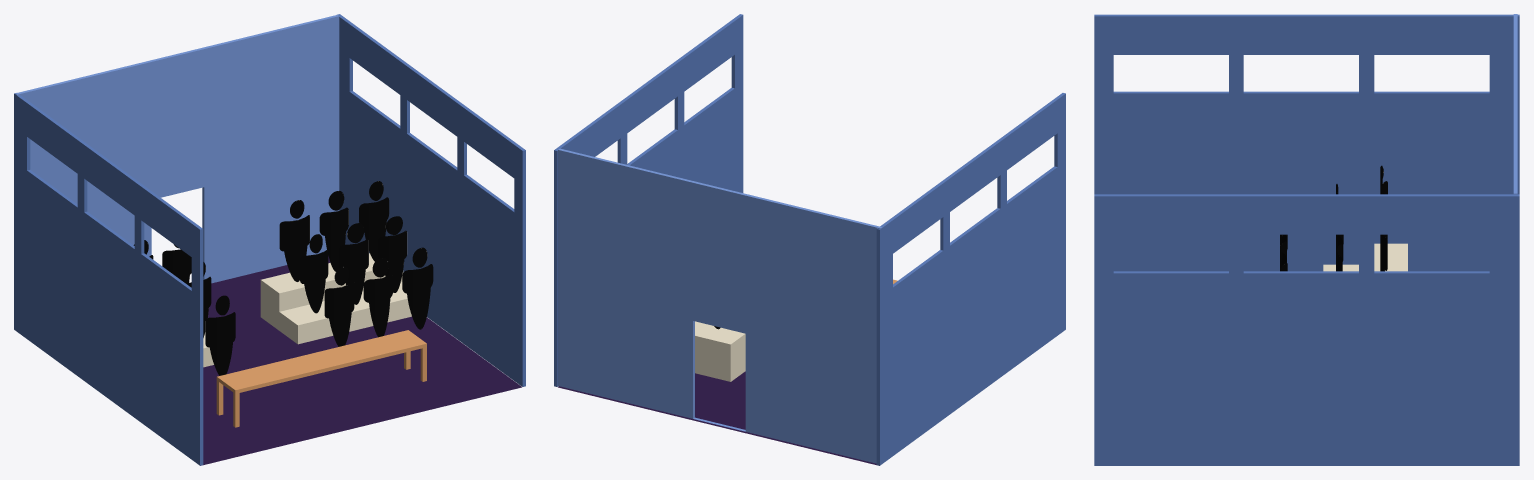
Rendered from meeting.fbx.
3 renders of one model, left to right at view 1: azimuth 30°, elevation 25°; view 2: azimuth 150°, elevation 25°; view 3: azimuth 270°, elevation 25°, orthographic. The views are drawn at different scales.
Visible parts, largest first — view 1: ruimte, person18, person2, person9, person1, person4, person3, person5, person6, person7, person8, person10; view 2: ruimte; view 3: ruimte.
Boxes of the visible parts, x1,y1,x2,y2 form: ruimte: [14, 14, 525, 465]; person18: [205, 295, 235, 375]; person2: [324, 266, 354, 346]; person9: [402, 247, 433, 329]; person1: [279, 200, 309, 282]; person4: [363, 257, 393, 337]; person3: [300, 234, 328, 313]; person5: [339, 223, 368, 304]; person6: [319, 191, 348, 271]; person7: [359, 181, 389, 261]; person8: [378, 216, 407, 292]; person10: [162, 244, 191, 282]; ruimte: [554, 14, 1065, 465]; ruimte: [1094, 14, 1519, 465].
Bounding box in the file's own units: 10.11 × 7.03 × 10.
2 materials, 2 textured.
